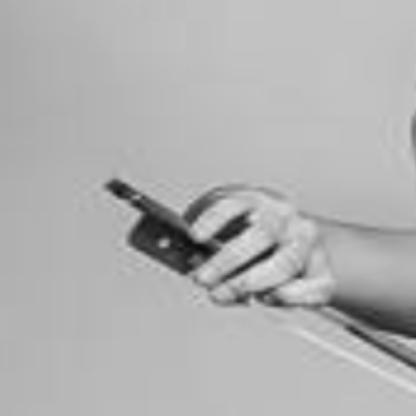good: (177, 166, 347, 325)
